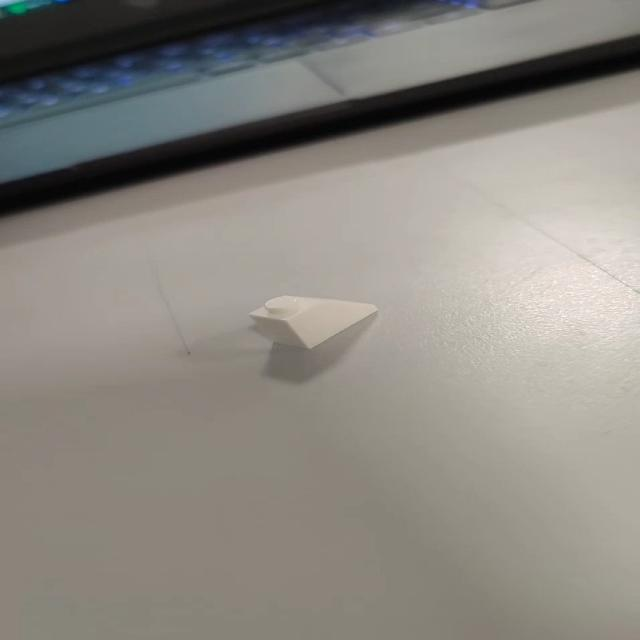P1x2x1: (246, 292, 384, 350)
